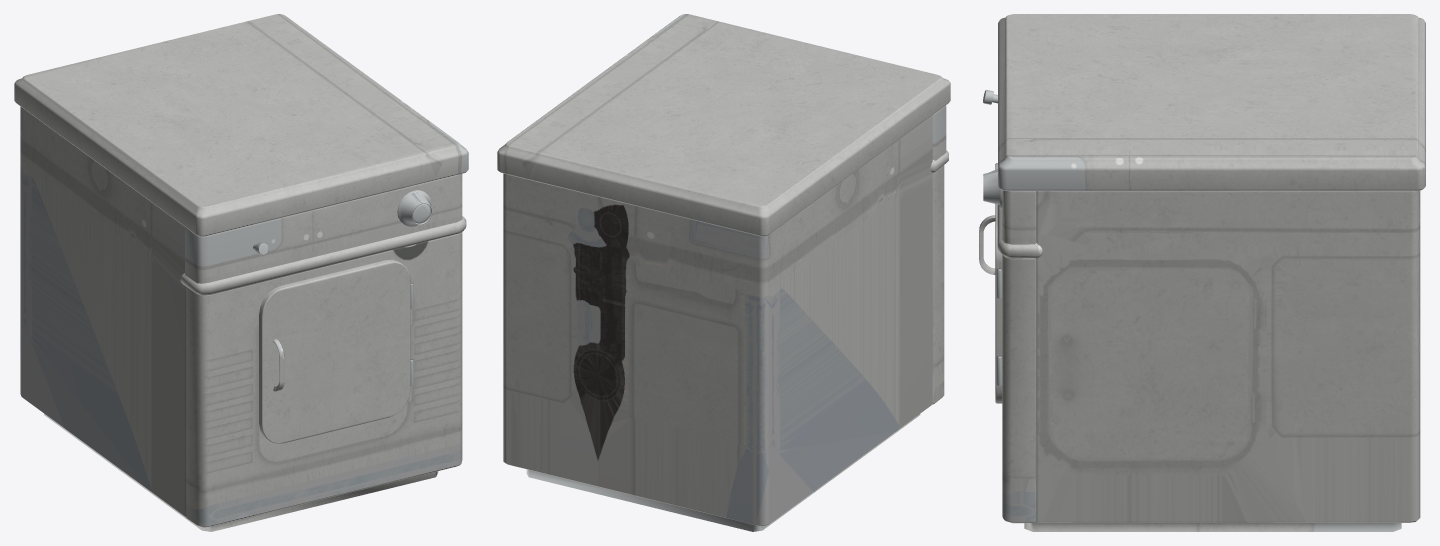
File: Metal.obj
3 renders of one model, left to right at view 1: azimuth 30°, elevation 25°; view 2: azimuth 150°, elevation 25°; view 3: azimuth 270°, elevation 25°, orthographic. The views are drawn at different scales.
Visible parts, largest first — view 1: defaultMaterial; view 2: defaultMaterial; view 3: defaultMaterial.
Boxes of the visible parts, x1=… form: defaultMaterial: x1=14, y1=14, x2=468, y2=531; defaultMaterial: x1=497, y1=14, x2=950, y2=531; defaultMaterial: x1=979, y1=14, x2=1425, y2=531.
Size of the model in its own units: 1.61 by 1.88 by 2.
